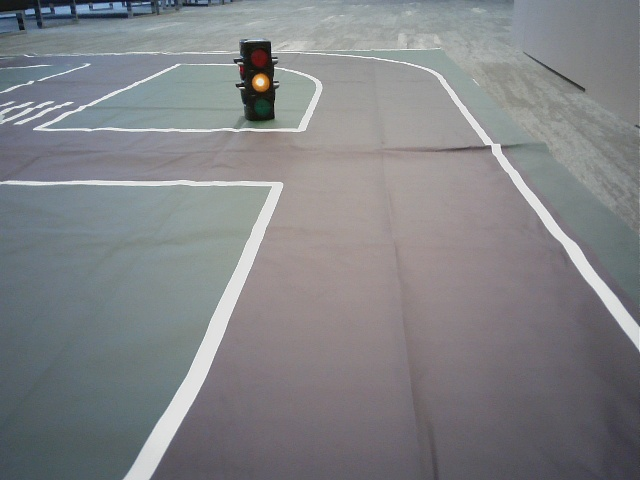yellow: (245, 41, 272, 117)
